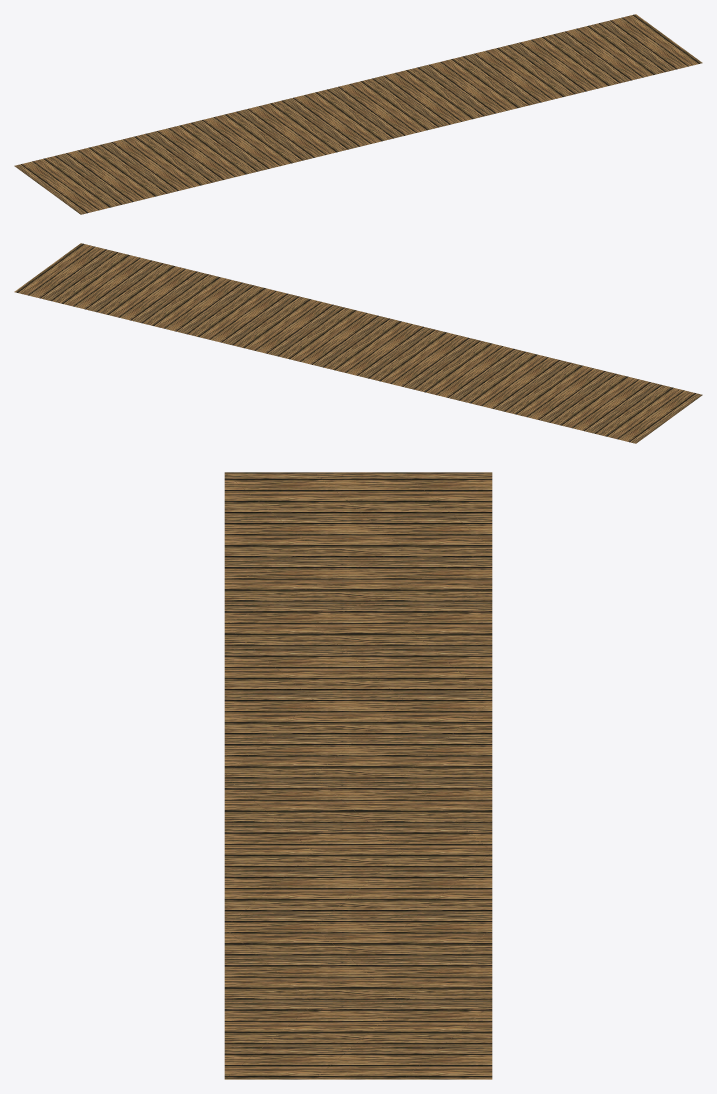
File: LAKETOWN_EXTERIOR_PS_LT_PIER_WOOD02.fbx
3 renders of one model, top to bottom at view 1: azimuth 30°, elevation 25°; view 2: azimuth 150°, elevation 25°; view 3: azimuth 270°, elevation 25°, orthographic. The views are drawn at different scales.
Parts seen in each view (by area): view 1: LAKETOWN_EXTERIOR_PS_LT_PIER_WOOD02; view 2: LAKETOWN_EXTERIOR_PS_LT_PIER_WOOD02; view 3: LAKETOWN_EXTERIOR_PS_LT_PIER_WOOD02.
Boxes of the visible parts, x1,y1,x2,y2 form: LAKETOWN_EXTERIOR_PS_LT_PIER_WOOD02: [14, 14, 702, 214]; LAKETOWN_EXTERIOR_PS_LT_PIER_WOOD02: [14, 243, 702, 443]; LAKETOWN_EXTERIOR_PS_LT_PIER_WOOD02: [224, 472, 492, 1079].
Bounding box in the file's own units: 268041 × 0.0165 × 49936.
1 material, 1 textured.
